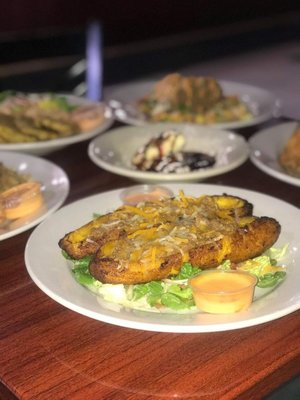sushi: (0, 151, 70, 239)
taco: (189, 270, 257, 314)
